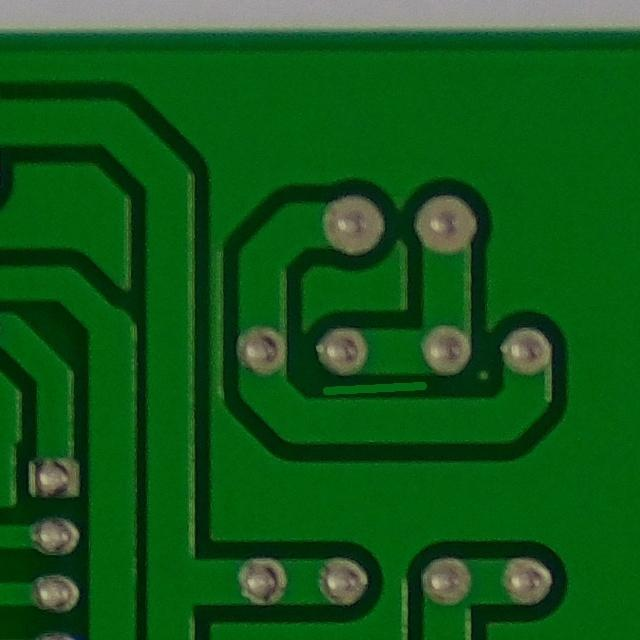spurious_copper: (313, 363, 436, 412)
